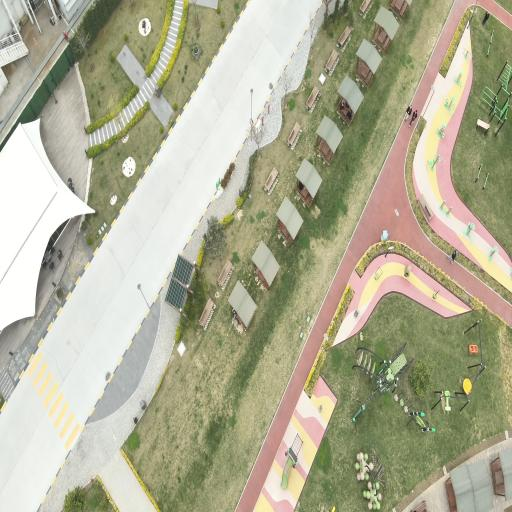person: (447, 250, 457, 264), (409, 110, 417, 126), (405, 106, 412, 120), (482, 12, 489, 25)
